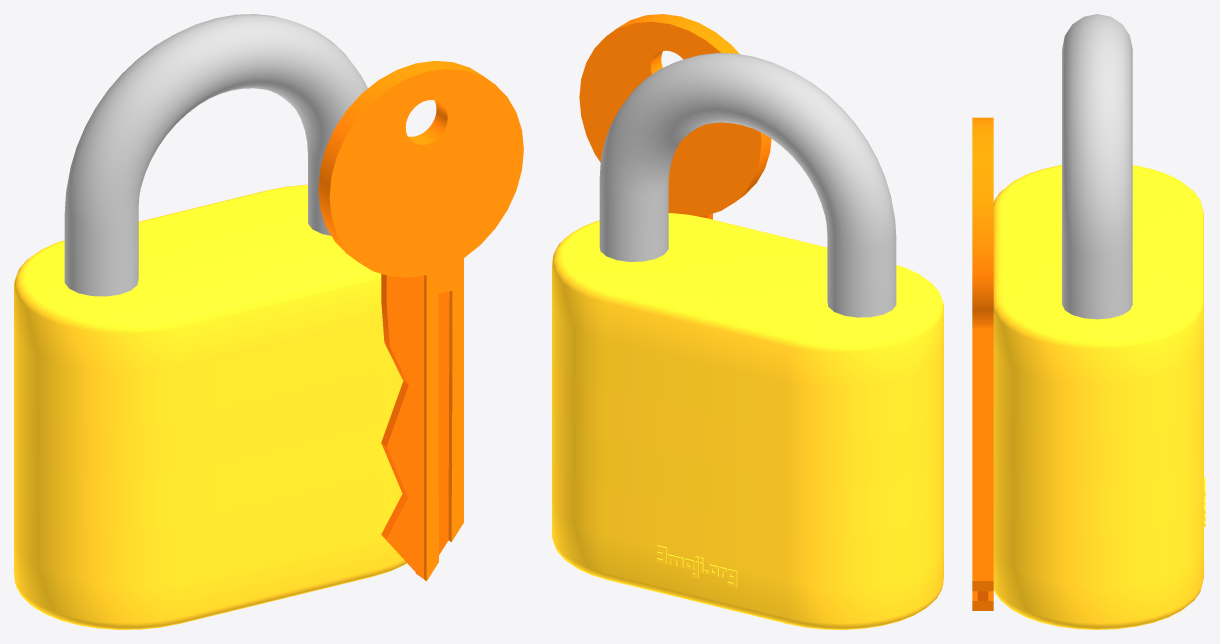
The model's file is locked_with_key.glb.
3 views of the same model, side by side, from view 1: azimuth 30°, elevation 25°; view 2: azimuth 150°, elevation 25°; view 3: azimuth 270°, elevation 25° (orthographic). The views are drawn at different scales.
Visible parts, largest first — view 1: Circle.2581, Circle.2580; view 2: Circle.2581, Circle.2580; view 3: Circle.2581, Circle.2580.
Boxes of the visible parts, <box> form: Circle.2581: <box>14,14,406,629</box>; Circle.2580: <box>318,61,523,581</box>; Circle.2581: <box>552,53,943,629</box>; Circle.2580: <box>579,14,771,219</box>; Circle.2581: <box>993,14,1205,629</box>; Circle.2580: <box>972,117,993,610</box>.
Bounding box in the file's own units: 1.77 × 2.17 × 0.8772.
1 material, 1 textured.
